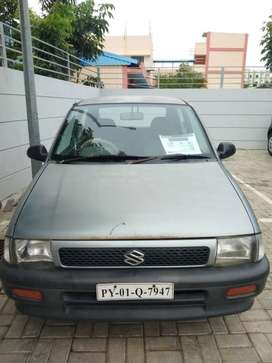PY01Q7947: (97, 282, 172, 299)
